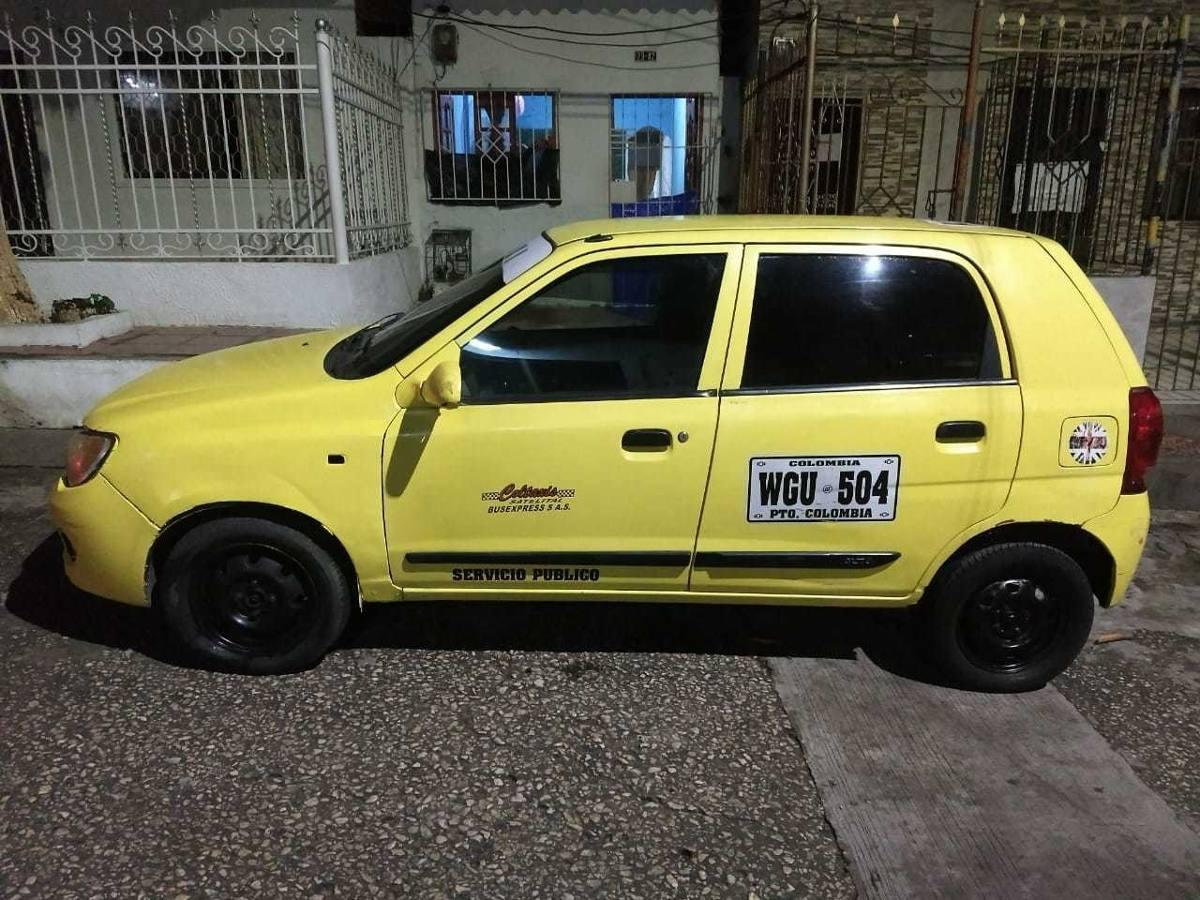taxi: (11, 173, 1200, 717)
